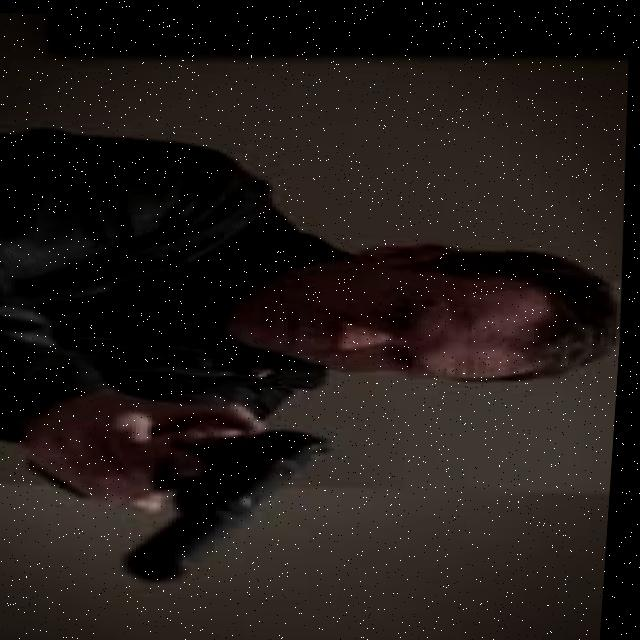pistol: (126, 417, 341, 588)
